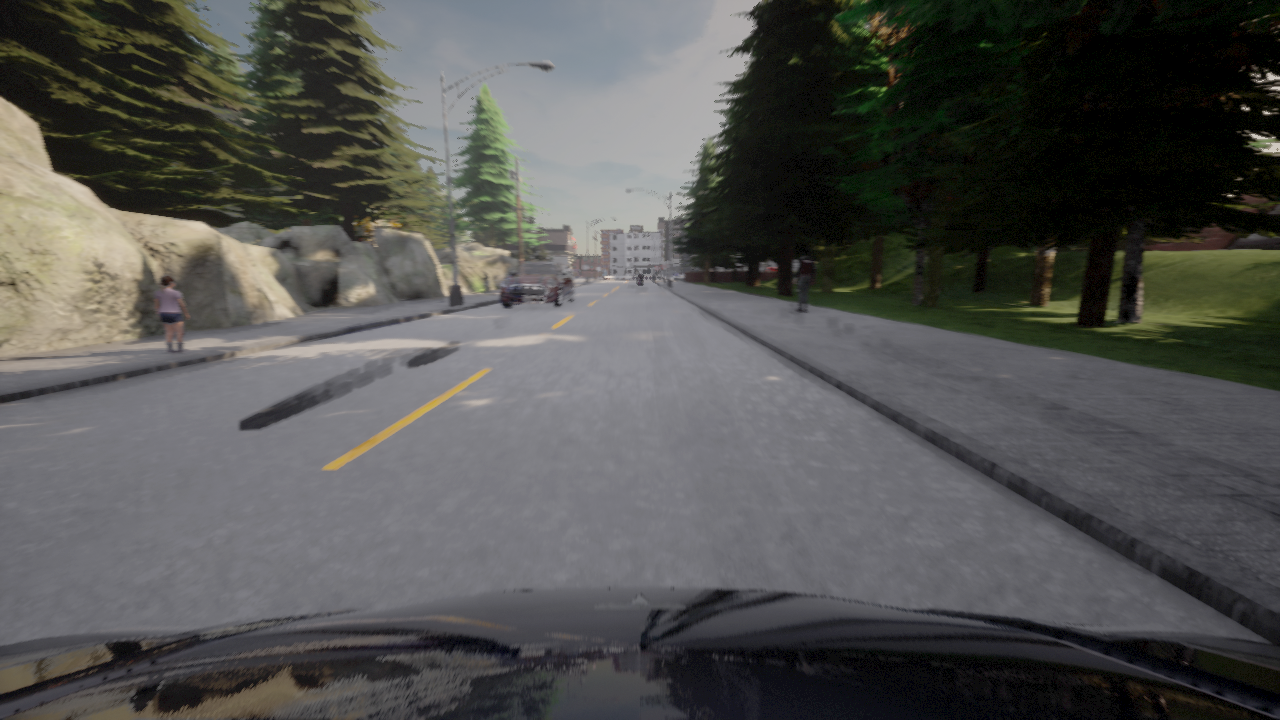cyclist: (0, 588, 1279, 719), (500, 260, 574, 307), (637, 276, 642, 285), (665, 272, 677, 275), (677, 273, 683, 275)
pedestrian: (154, 275, 189, 353), (794, 248, 815, 311)
